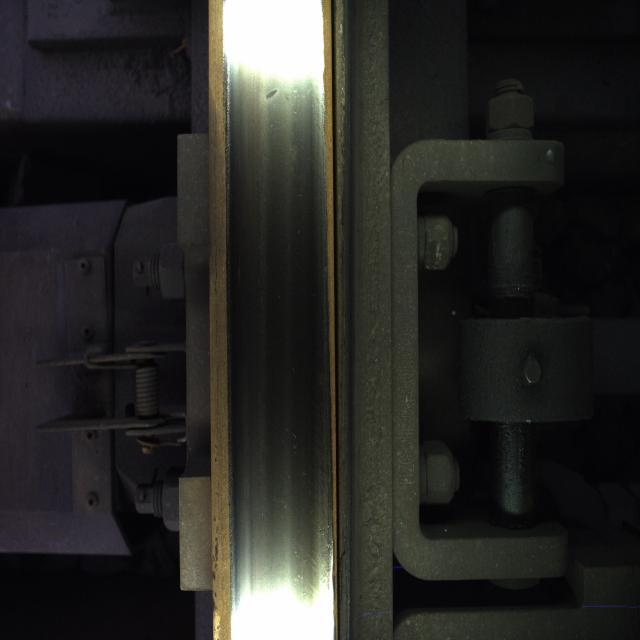crack: (239, 52, 306, 132)
